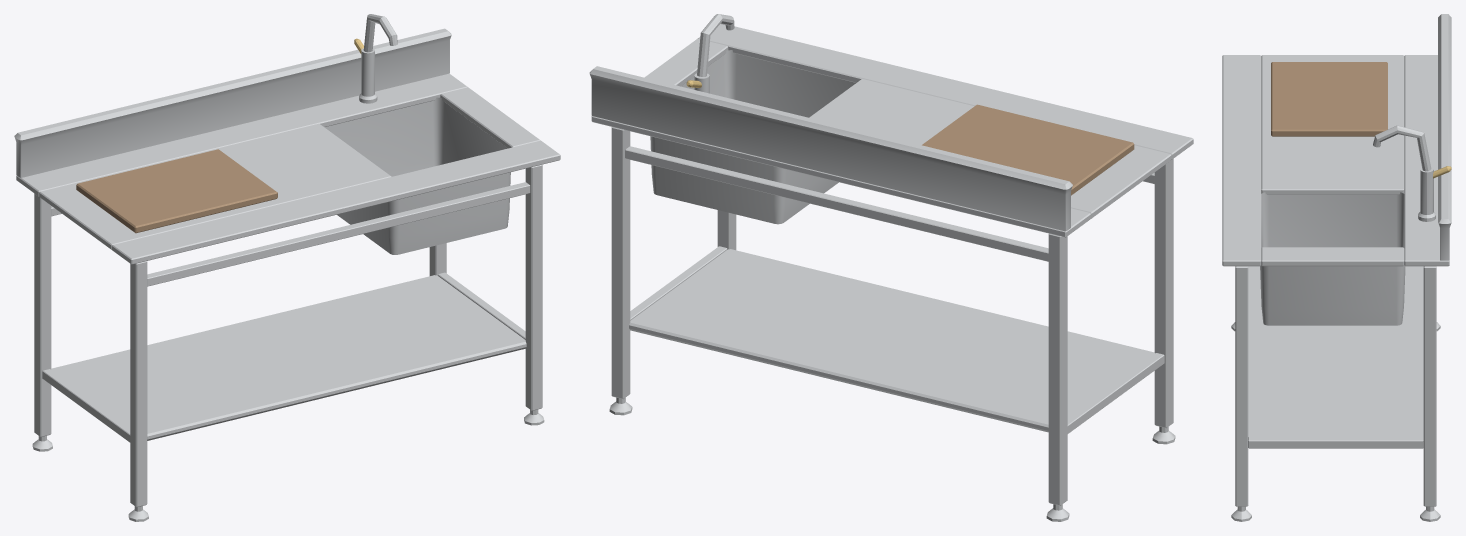
File: restaurant-kitchen-and-dining-prep-table-sink-618a70a6__16430.glb
3 views of the same model, side by side, from view 1: azimuth 30°, elevation 25°; view 2: azimuth 150°, elevation 25°; view 3: azimuth 270°, elevation 25° (orthographic). The views are drawn at different scales.
Parts seen in each view (by area): view 1: prep-table-sink; view 2: prep-table-sink; view 3: prep-table-sink.
Boxes of the visible parts, x1,y1,x2,y2 form: prep-table-sink: (14,14,560,521); prep-table-sink: (589,14,1193,521); prep-table-sink: (1222,14,1451,521).
Bounding box in the file's own units: 1.51 × 1.21 × 0.7062.
